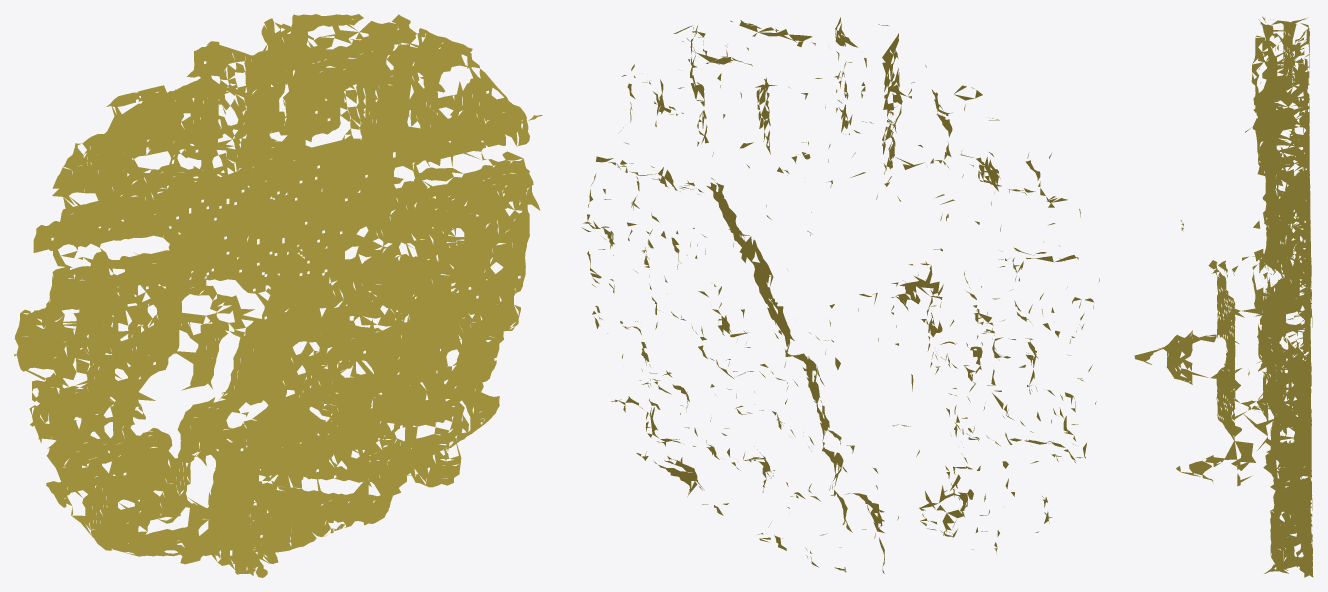
The picture shows the model from 3 angles, left to right: view 1: azimuth 30°, elevation 25°; view 2: azimuth 150°, elevation 25°; view 3: azimuth 270°, elevation 25°; orthographic projection. The views are drawn at different scales.
Bounding box in the file's own units: 204 × 204 × 65.62.
